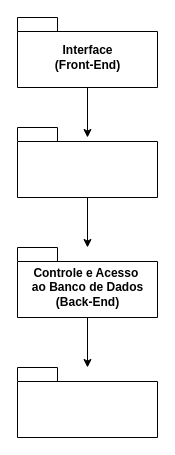
Image size: 175x455. Some labels were removed from this diagram. The shapes that lost their labels are listed below. From the top down, each one's centre as x and y in pixels, then its label:
the point at 87,162: Regras de Negocio (Back-End)
the point at 87,402: Banco de Dados (Persistência)
